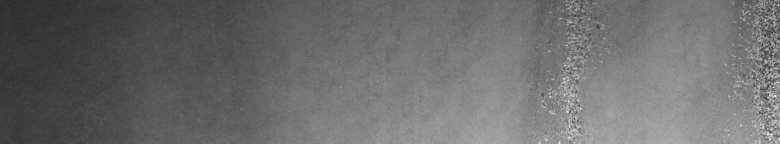hc: (725, 4, 776, 136)
